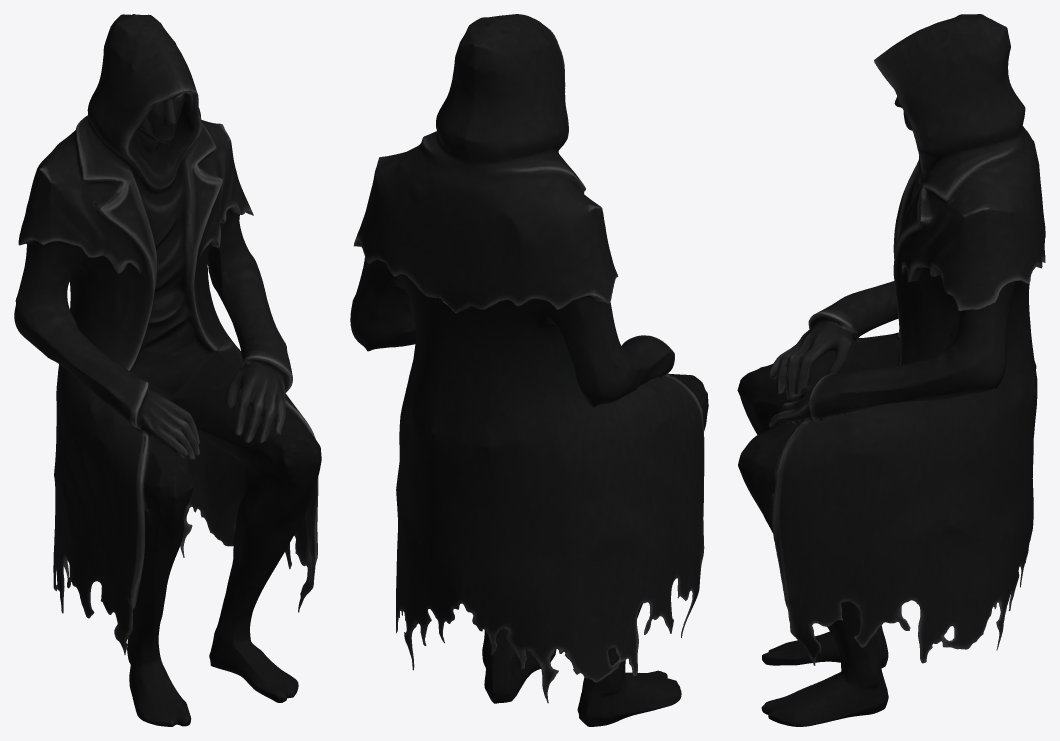
The model's file is Meshy_AI_The_Silent_Wraith_1013033848_texture.obj.
3 views of the same model, side by side, from view 1: azimuth 30°, elevation 25°; view 2: azimuth 150°, elevation 25°; view 3: azimuth 270°, elevation 25° (orthographic). The views are drawn at different scales.
Visible parts, largest first — view 1: Meshy_AI_The_Silent_Wraith_1013033848_texture; view 2: Meshy_AI_The_Silent_Wraith_1013033848_texture; view 3: Meshy_AI_The_Silent_Wraith_1013033848_texture.
Part boxes in pixels (x1,y1,x2,y2): Meshy_AI_The_Silent_Wraith_1013033848_texture: (14, 14, 321, 726); Meshy_AI_The_Silent_Wraith_1013033848_texture: (350, 14, 708, 726); Meshy_AI_The_Silent_Wraith_1013033848_texture: (737, 14, 1045, 726).
Bounding box in the file's own units: 0.7382 × 1.9 × 0.7873.
Materials: 1 (1 with a texture image).
